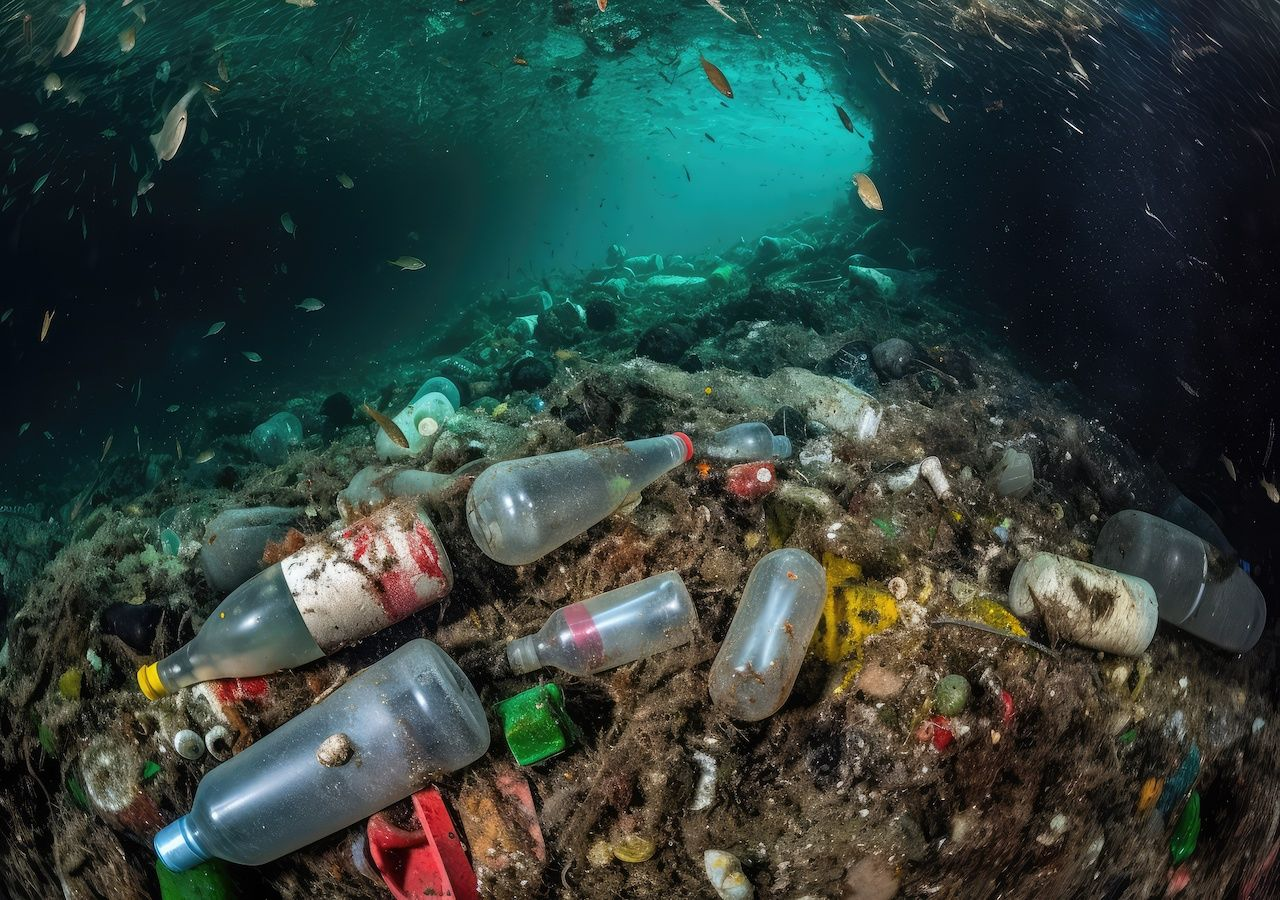Fish: (687, 41, 743, 106), (843, 162, 894, 223), (377, 243, 434, 275)
Plastic: (154, 620, 504, 887), (137, 501, 459, 708), (451, 430, 721, 572), (622, 342, 917, 443), (1102, 491, 1266, 655), (711, 532, 830, 734), (1012, 533, 1168, 668), (502, 577, 702, 674), (368, 373, 465, 463), (491, 686, 581, 766)
